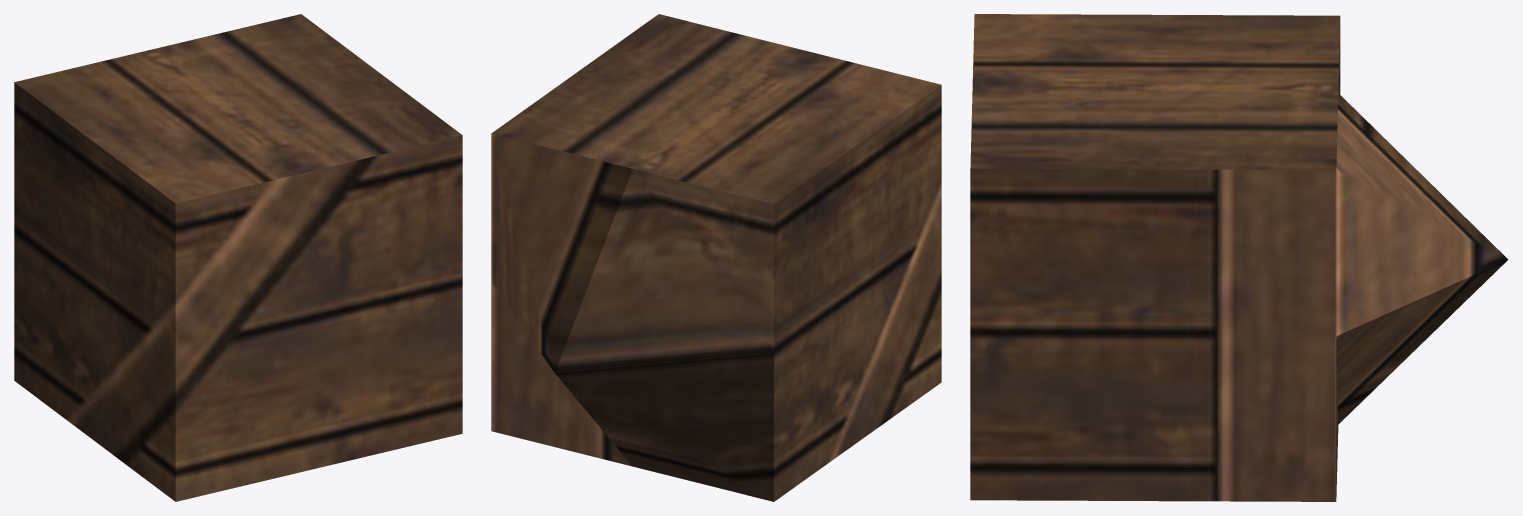
The model's file is enemy.gltf.
3 views of the same model, side by side, from view 1: azimuth 30°, elevation 25°; view 2: azimuth 150°, elevation 25°; view 3: azimuth 270°, elevation 25° (orthographic). The views are drawn at different scales.
Visible parts, largest first — view 1: Cube.001; view 2: Cube.001; view 3: Cube.001.
Boxes of the visible parts, x1=… form: Cube.001: x1=14, y1=14, x2=462, y2=501; Cube.001: x1=491, y1=14, x2=941, y2=501; Cube.001: x1=970, y1=14, x2=1508, y2=501.
Bounding box in the file's own units: 2.02 × 2 × 2.94.
1 material, 1 textured.
